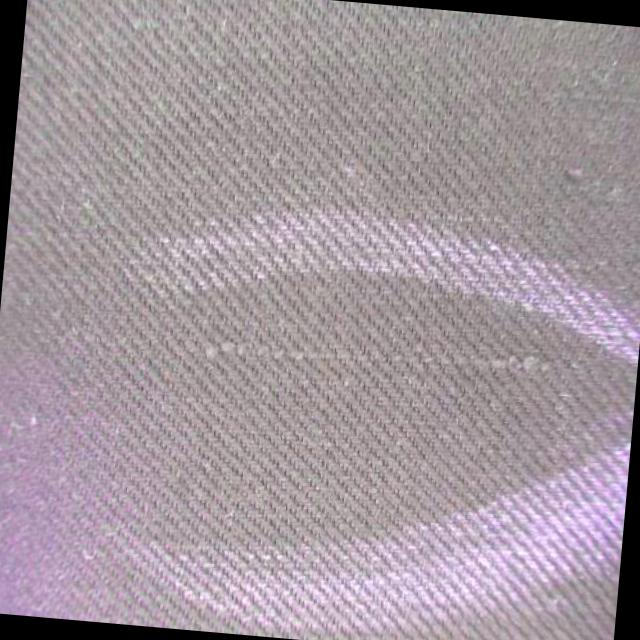Stain: (93, 390, 631, 640), (171, 193, 640, 361)
Warp_Weft: (202, 327, 558, 386)
